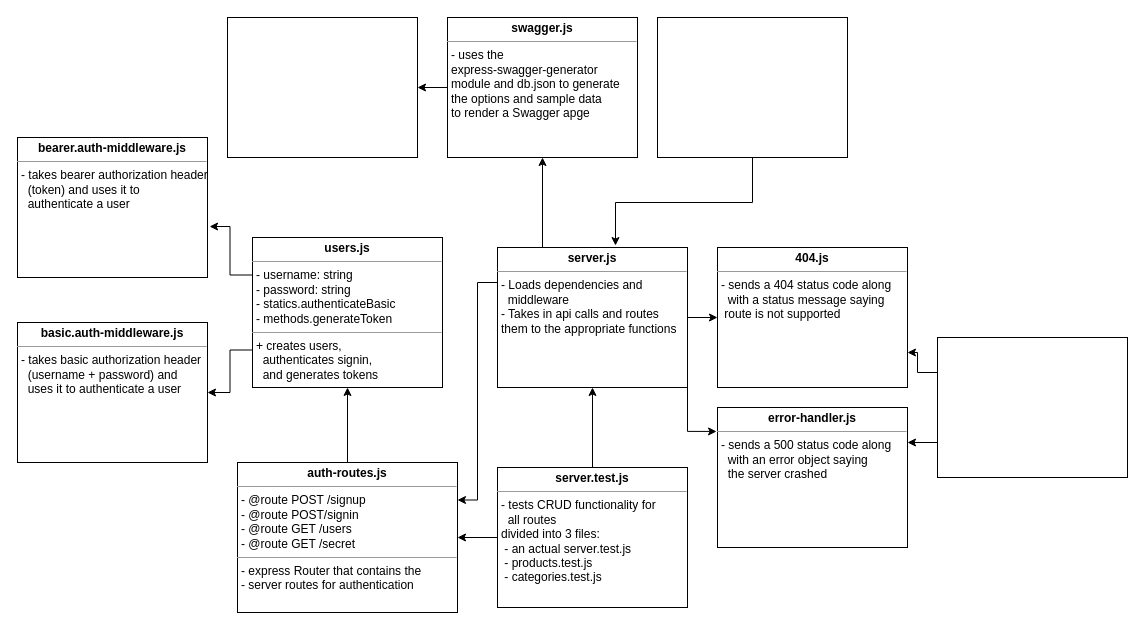
The diagram is 1145 pixels wide and 630 high, and some of its shapes have lost their labels. Each missing label, with the centre of its shape:
db.json - contains sample data to use for Swagger examples: the point at 322,87
index.js - main entrypoint - starts the server using desired configuration: the point at 752,87
middleware.test.js -tests functionality middleware: the point at 1032,407
